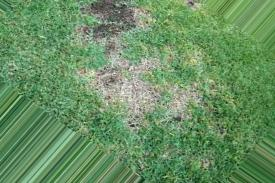patch: (98, 74, 149, 107), (96, 2, 133, 35), (168, 89, 190, 113)
